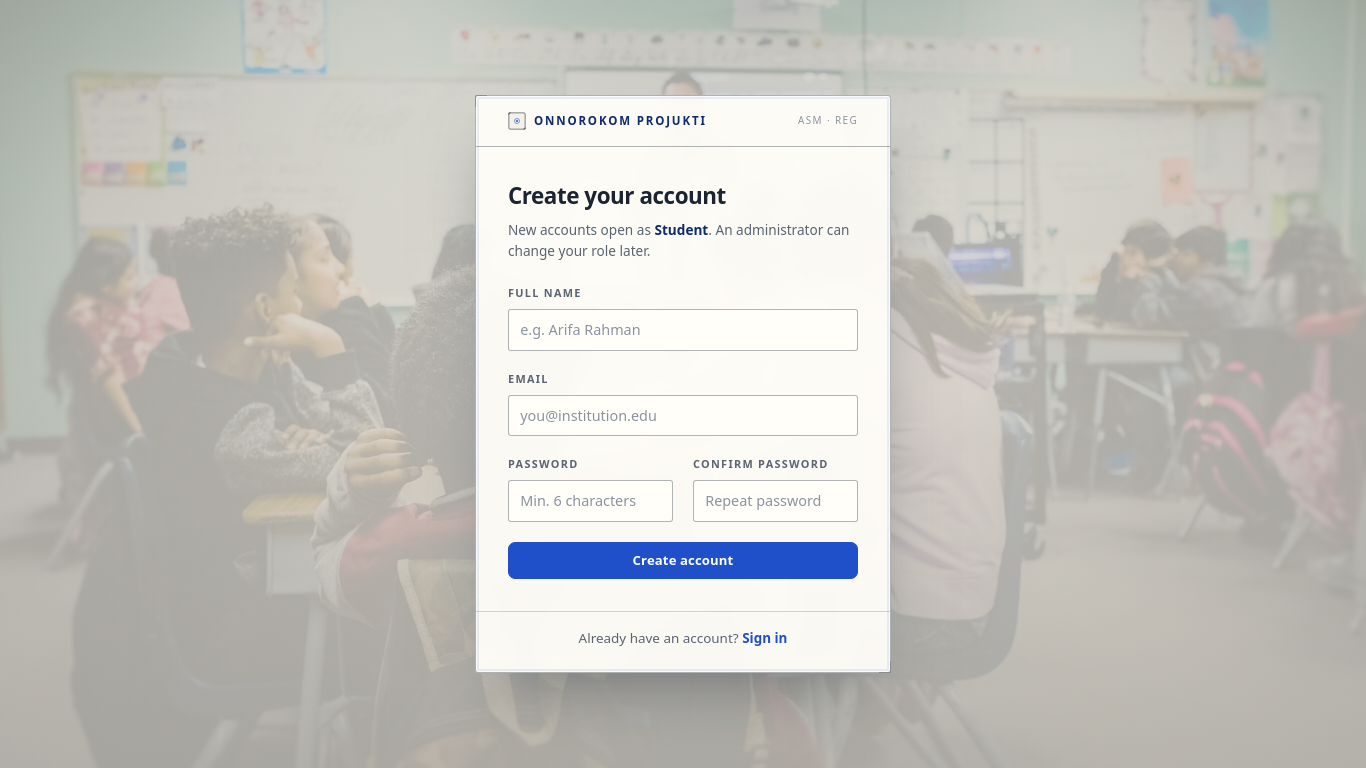
Test case: RegisterPage › shows an error for mismatched passwords
Type "Arifa Rahman" into the field labelled "Full name".
click(683, 330); type("Arifa Rahman")  # box [508,309,858,351]
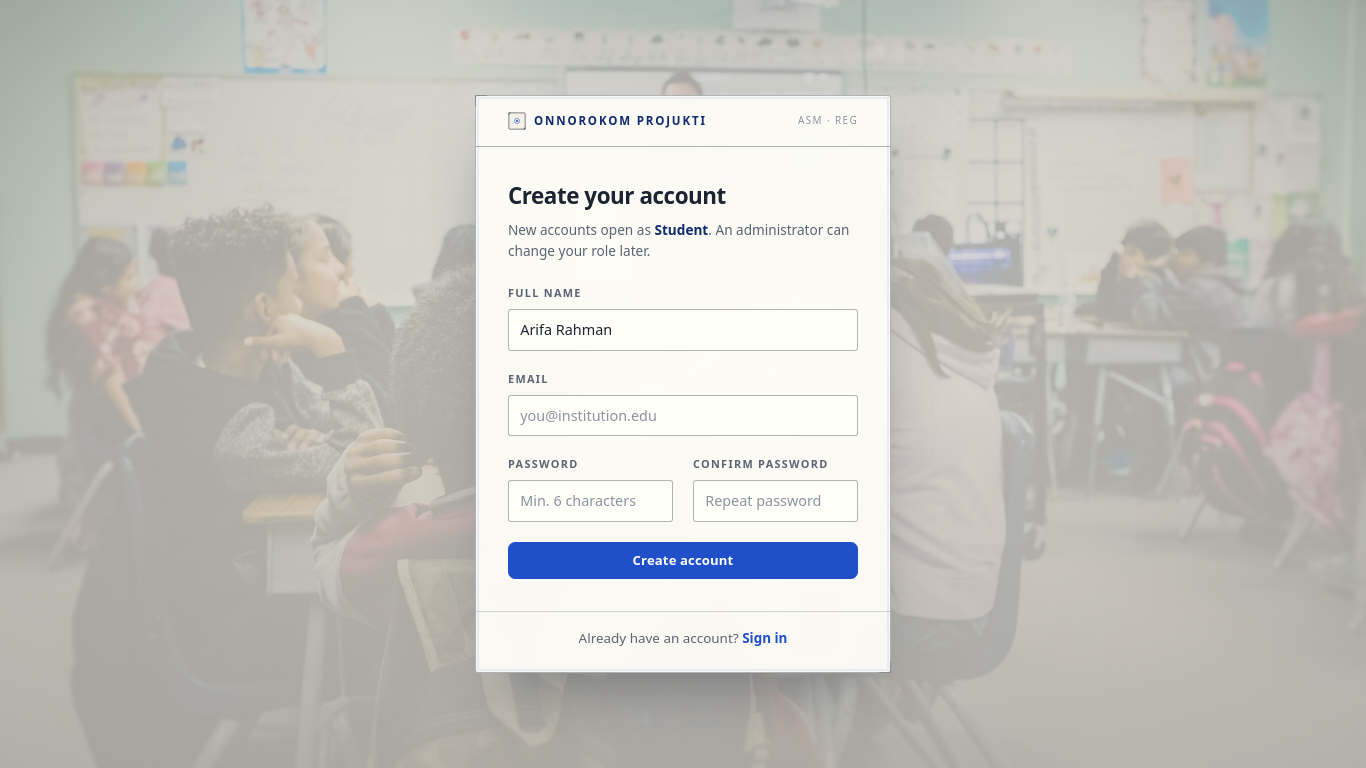
Type "arifa@example.com" into the field labelled "Email".
click(683, 415); type("arifa@example.com")  # box [508,395,858,436]
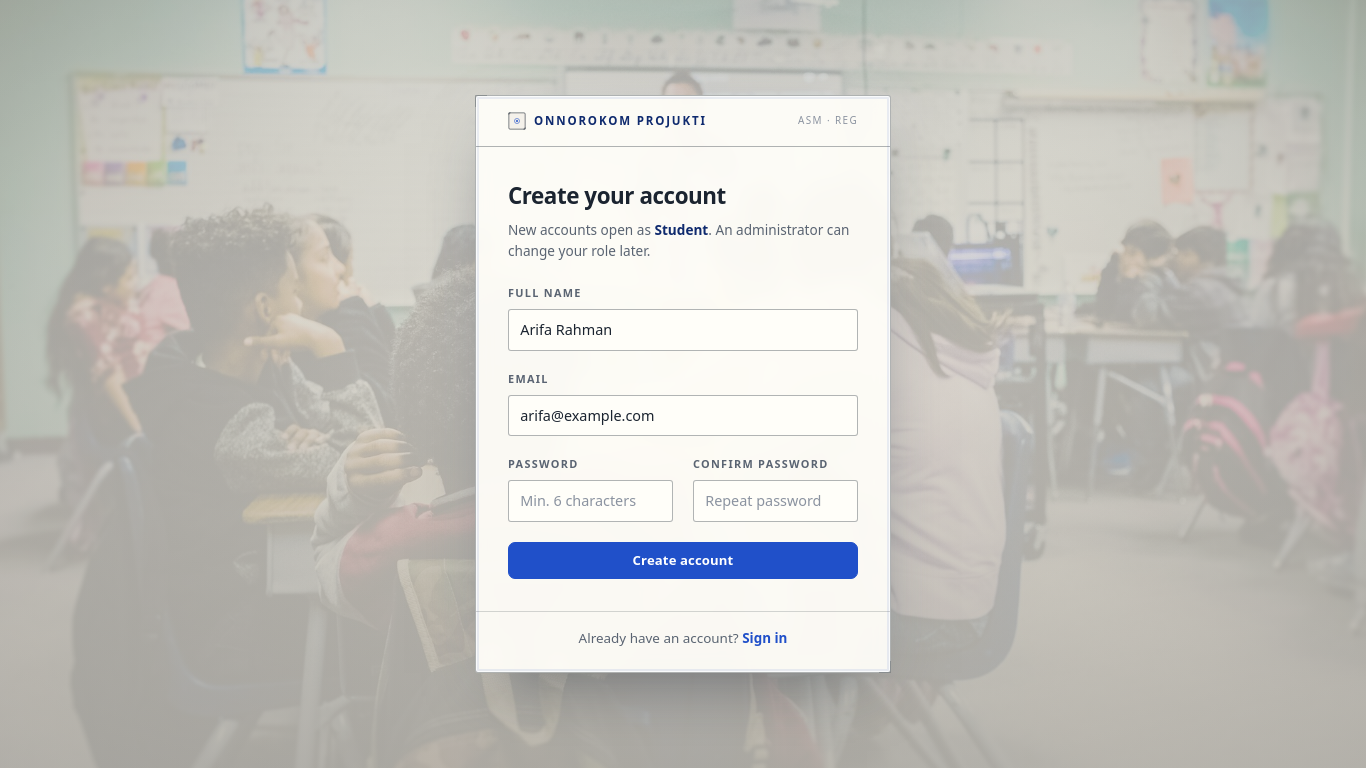
Type "secret6" into the password field labelled "Password".
click(590, 501); type("secret6")  # box [508,480,673,522]
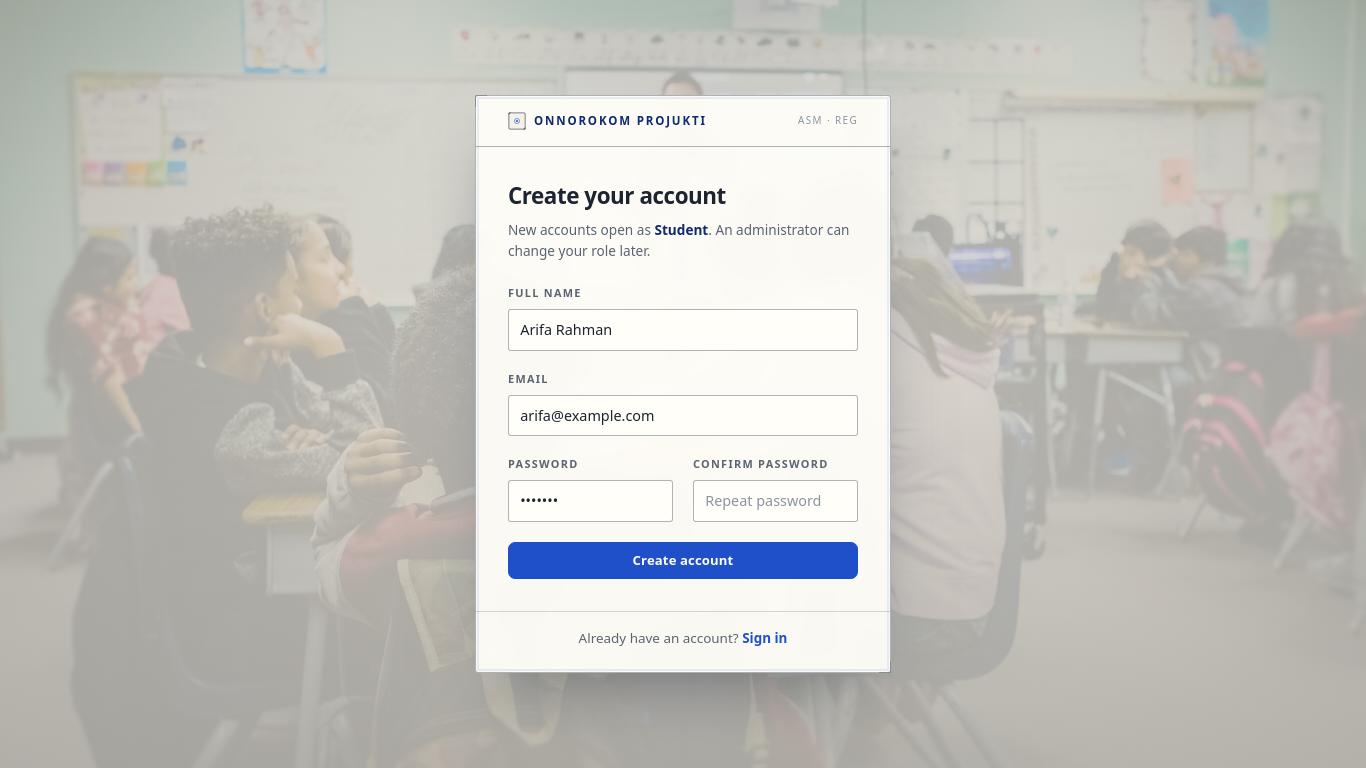
Type "different" into the password field labelled "Confirm password".
click(776, 501); type("different")  # box [693,480,858,522]
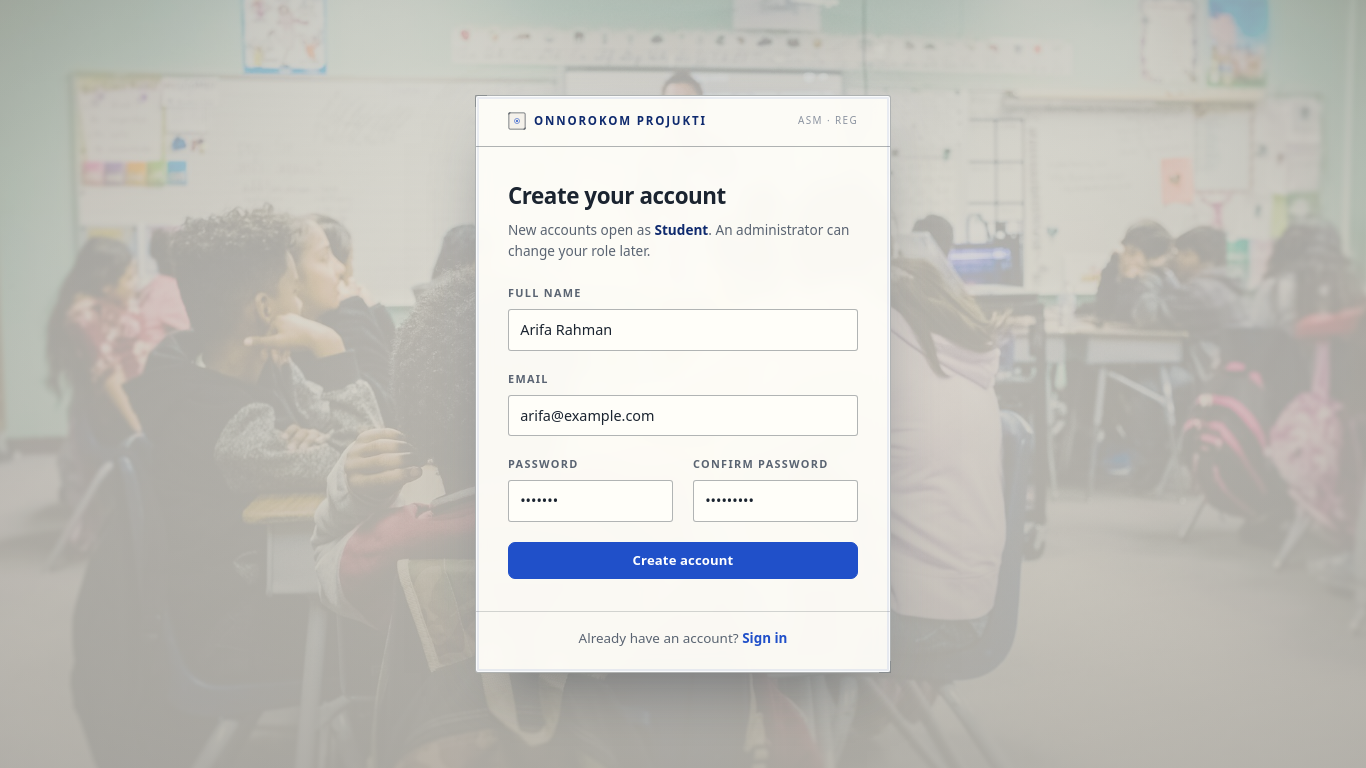
Click the button "Create account".
click(683, 560)  # box [508,542,858,579]
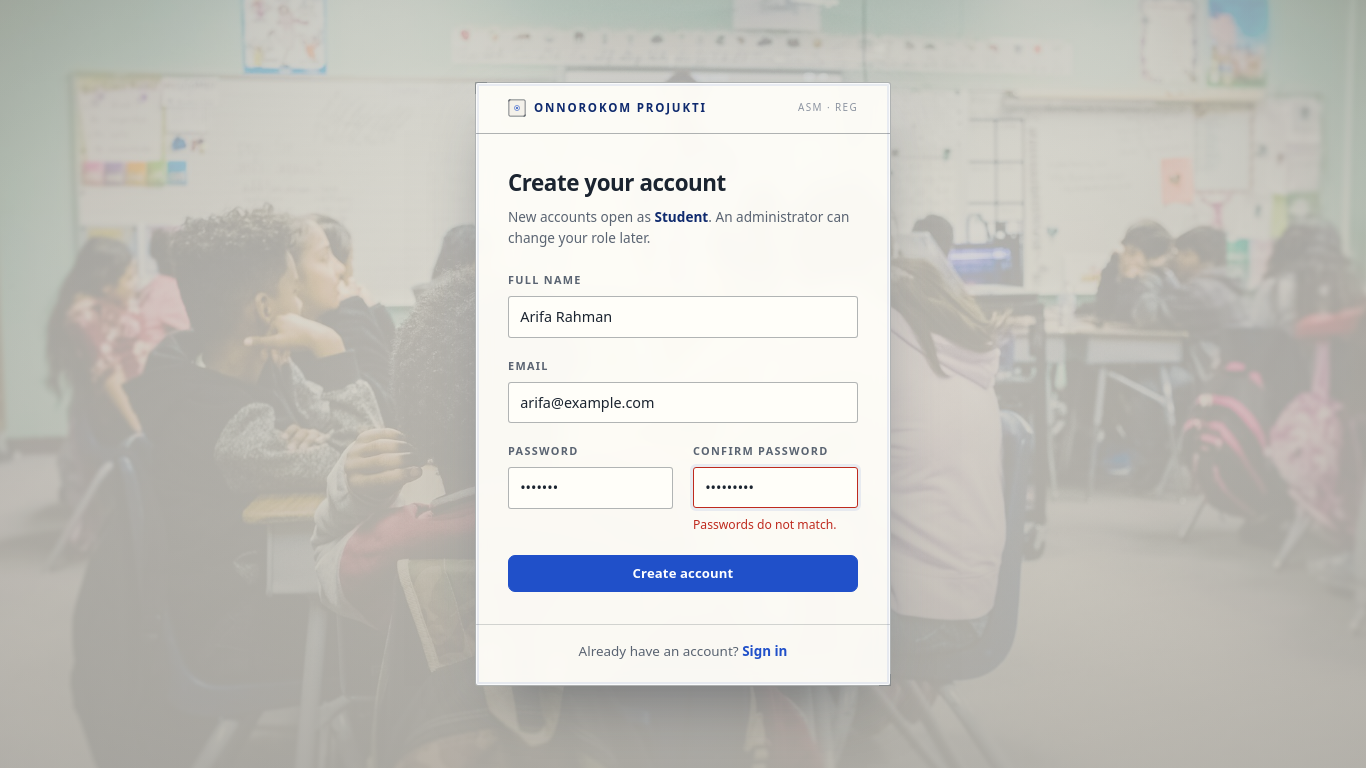
Check: the text "Passwords do not match." is shown, box [693,516,858,535]
